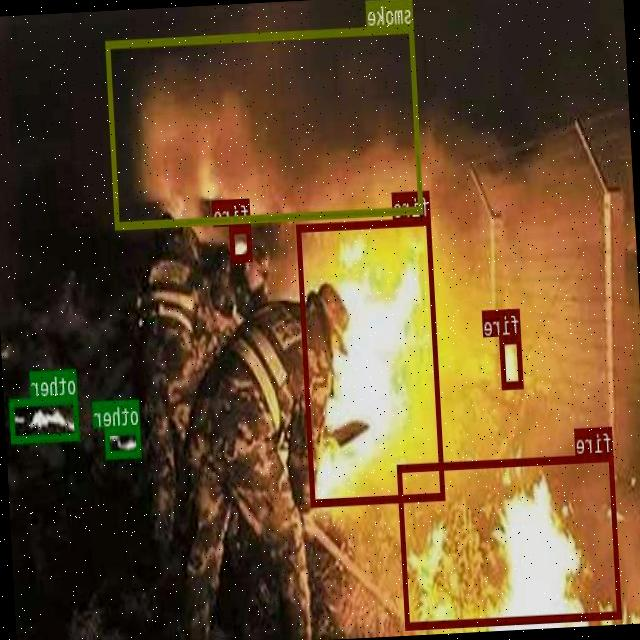fire: (297, 216, 446, 506), (398, 452, 622, 628), (500, 335, 525, 388), (230, 224, 253, 260)
smoke: (107, 24, 424, 228)
